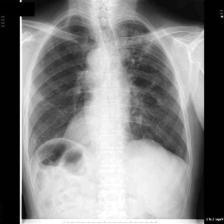tuberculosis: (25, 13, 194, 171)
